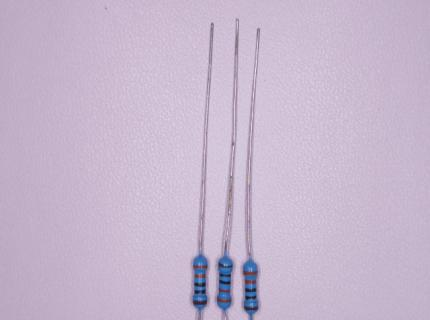Black band: (245, 287, 257, 293), (219, 279, 231, 285), (244, 295, 257, 300), (219, 273, 231, 278), (194, 282, 206, 287), (194, 289, 206, 294)
Brown band: (218, 262, 233, 268), (244, 305, 259, 310), (193, 300, 207, 305)
Orange band: (243, 270, 258, 276), (217, 297, 231, 303), (193, 265, 208, 269), (194, 273, 206, 278), (245, 279, 257, 284), (219, 288, 230, 293)
